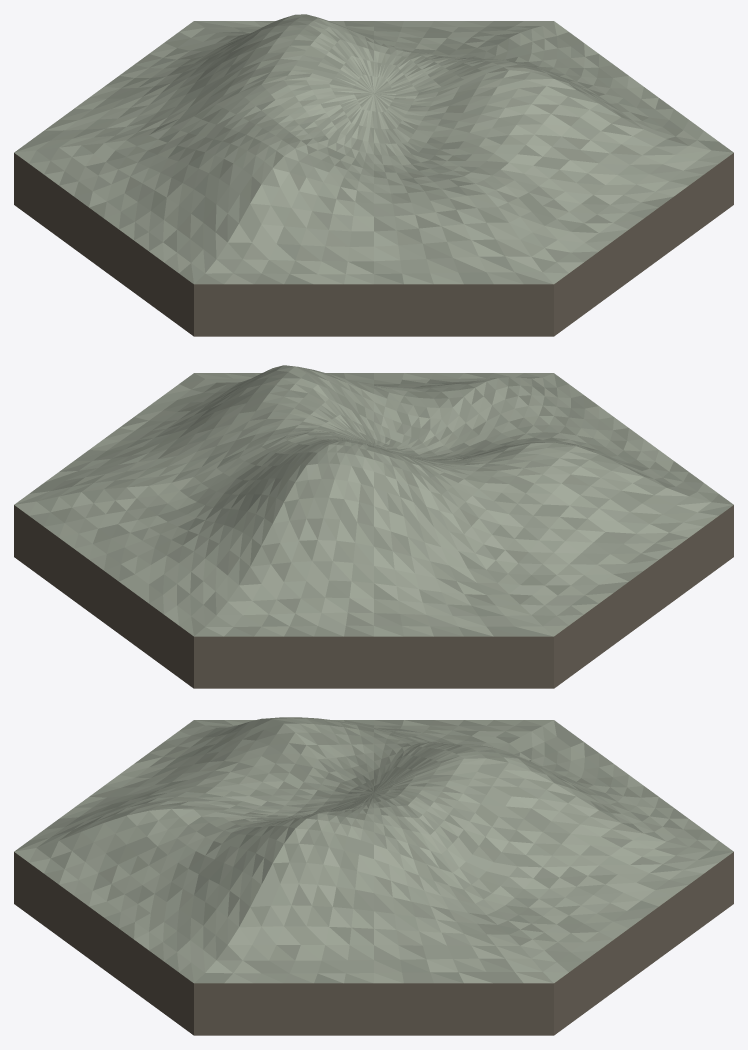
Rendered from TERRAIN_TUNDRA_HILLS_v02.fbx.
3 renders of one model, top to bottom at view 1: azimuth 30°, elevation 25°; view 2: azimuth 150°, elevation 25°; view 3: azimuth 270°, elevation 25°, orthographic.
Visible parts, largest first — view 1: TERRAIN_TUNDRA_HILLS_v02; view 2: TERRAIN_TUNDRA_HILLS_v02; view 3: TERRAIN_TUNDRA_HILLS_v02.
Boxes of the visible parts, <box> form: TERRAIN_TUNDRA_HILLS_v02: <box>14,14,733,336</box>; TERRAIN_TUNDRA_HILLS_v02: <box>14,365,733,688</box>; TERRAIN_TUNDRA_HILLS_v02: <box>14,717,733,1035</box>.
Size of the model in its own units: 173 by 44.76 by 200.
